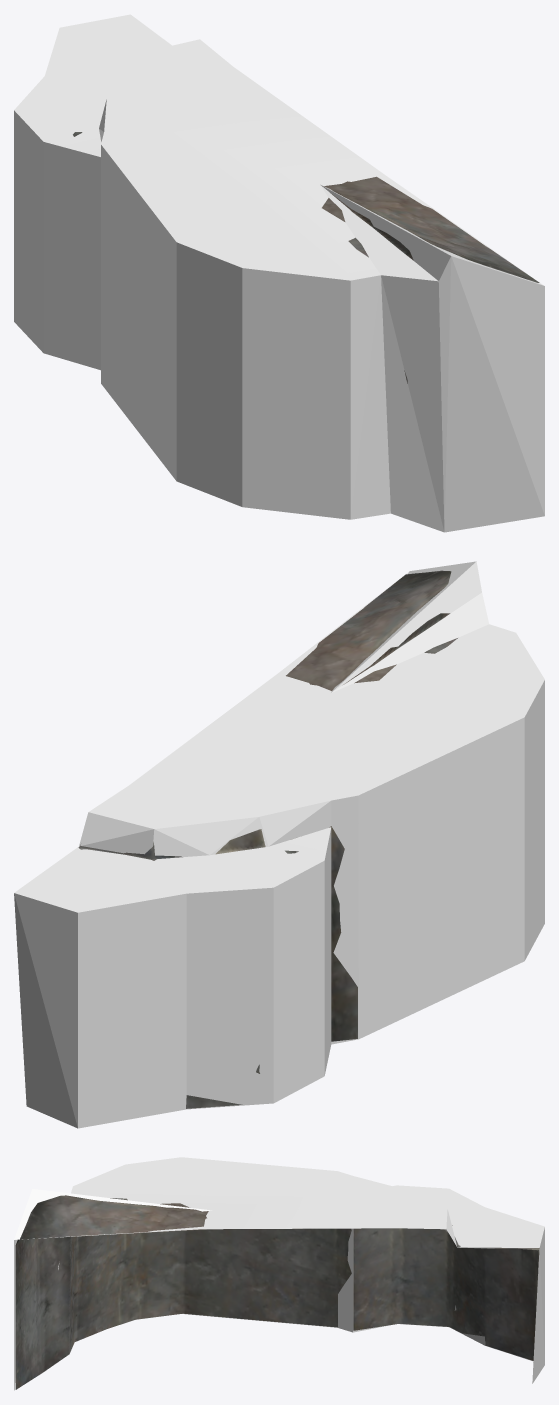
The model's file is Rock_B2.fbx.
The picture shows the model from 3 angles, top to bottom: view 1: azimuth 30°, elevation 25°; view 2: azimuth 150°, elevation 25°; view 3: azimuth 270°, elevation 25°; orthographic projection. The views are drawn at different scales.
Parts seen in each view (by area): view 1: Rock_B2_PZ, Rock_B2__1_; view 2: Rock_B2_PZ, Rock_B2__1_; view 3: Rock_B2__1_, Rock_B2_PZ.
Boxes of the visible parts, bbox=[...] form: Rock_B2_PZ: bbox=[14, 14, 544, 532]; Rock_B2__1_: bbox=[73, 132, 539, 383]; Rock_B2_PZ: bbox=[14, 561, 544, 1128]; Rock_B2__1_: bbox=[78, 570, 457, 1108]; Rock_B2__1_: bbox=[15, 1195, 539, 1389]; Rock_B2_PZ: bbox=[14, 1157, 544, 1390].
Bounding box in the file's own units: 0.4077 × 0.4559 × 1.19.
